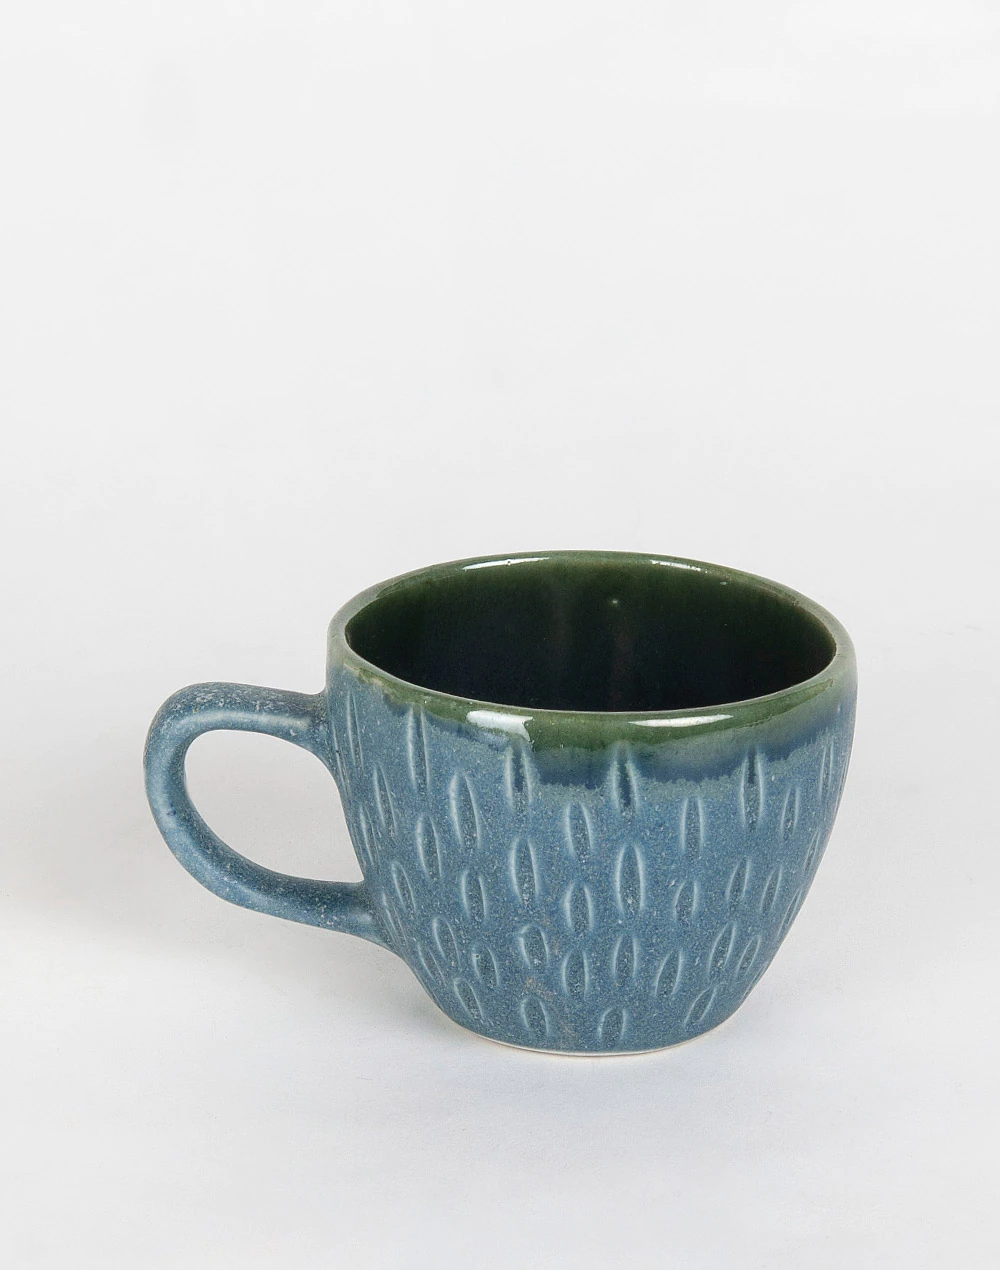cup: (143, 543, 864, 1054)
